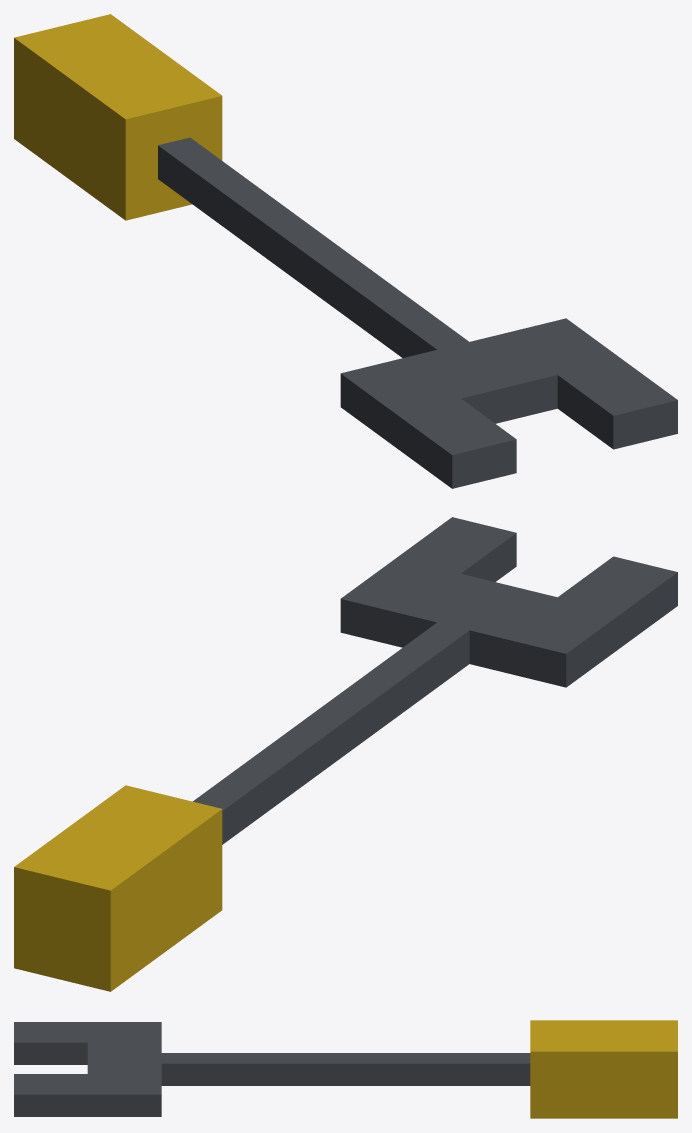
File: vox_wrench_big.glb
3 views of the same model, one above another, from view 1: azimuth 30°, elevation 25°; view 2: azimuth 150°, elevation 25°; view 3: azimuth 270°, elevation 25° (orthographic). The views are drawn at different scales.
Visible parts, largest first — view 1: vox_wrench_big; view 2: vox_wrench_big; view 3: vox_wrench_big.
Part boxes in pixels (x1,y1,x2,y2): vox_wrench_big: (14,14,677,488); vox_wrench_big: (14,517,677,991); vox_wrench_big: (14,1020,677,1118).
Bounding box in the file's own units: 0.14 × 0.06 × 0.54.
